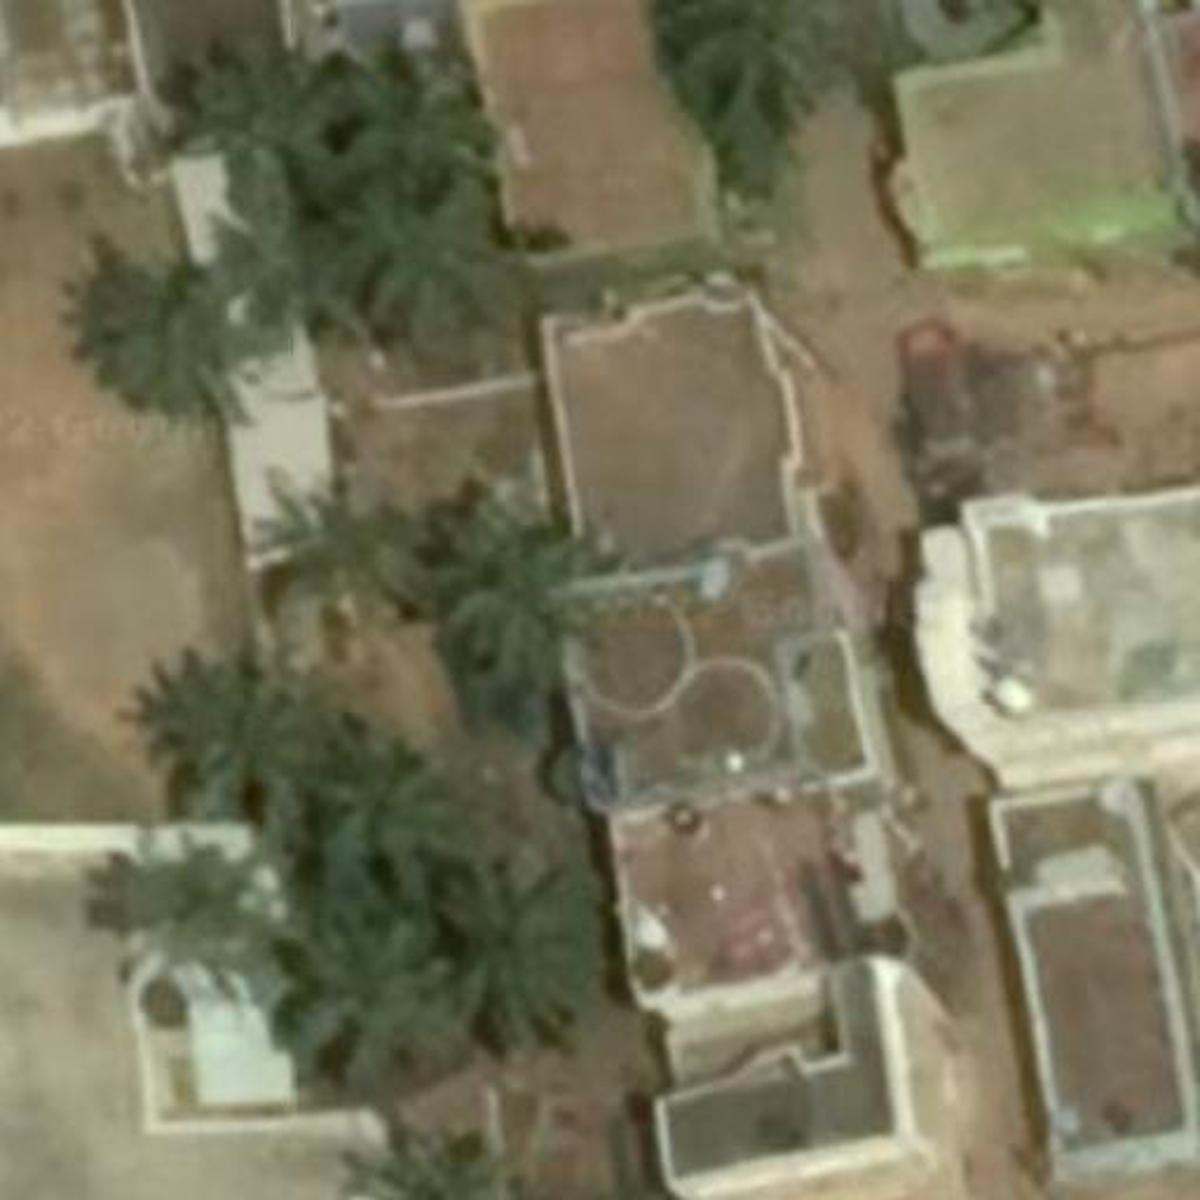coconut: (431, 843, 616, 1052), (82, 246, 295, 424), (269, 904, 478, 1085), (433, 492, 604, 698), (103, 838, 304, 1012), (344, 192, 532, 346), (173, 42, 342, 208), (342, 56, 516, 210), (166, 670, 332, 825), (300, 721, 466, 874), (264, 496, 440, 630), (243, 225, 389, 367), (677, 11, 829, 131), (335, 1129, 516, 1200)
